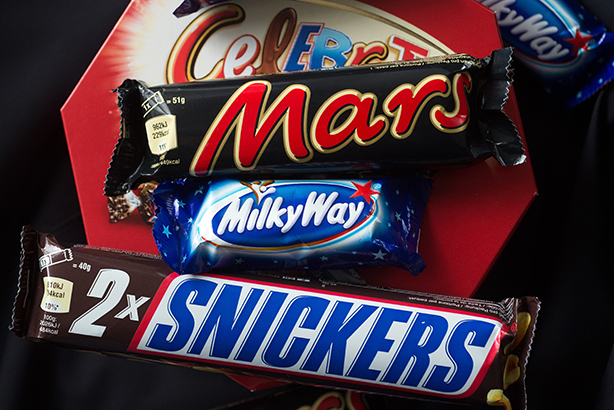snickers: (147, 276, 492, 394)
